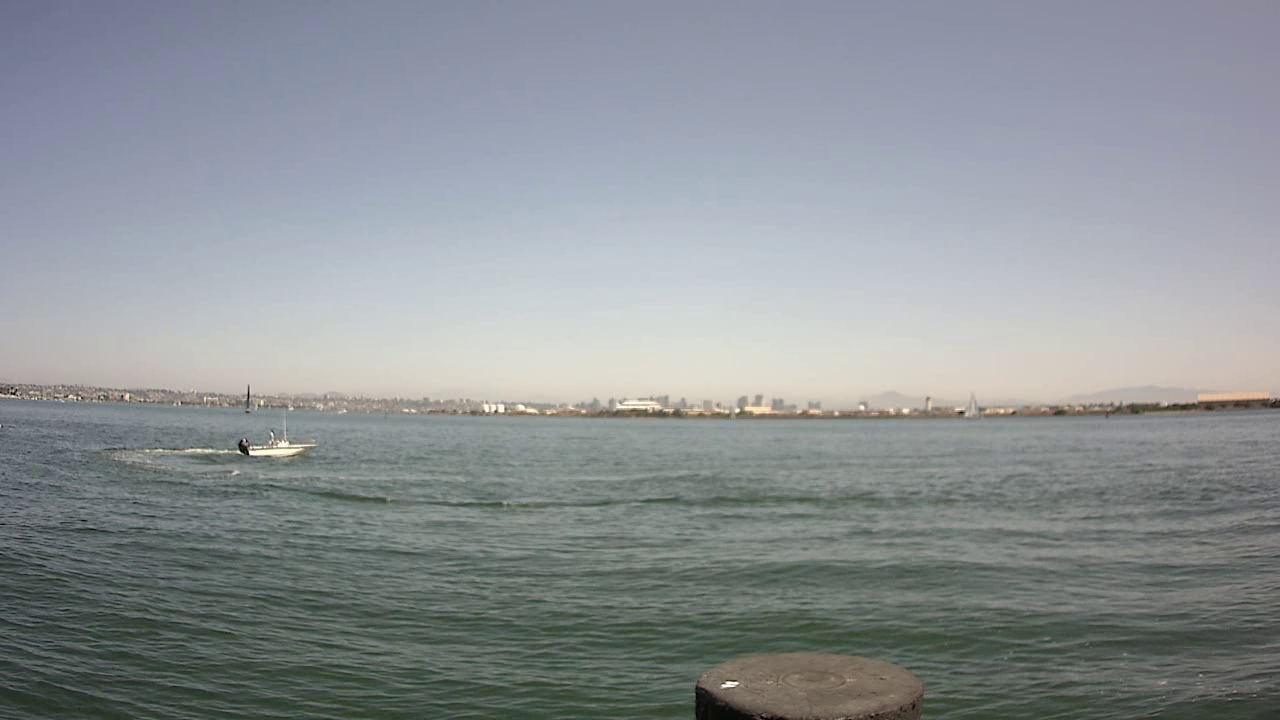target: (235, 416, 321, 469)
